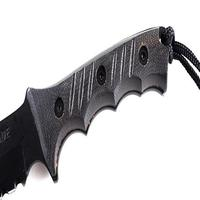knife: (1, 19, 184, 195)
